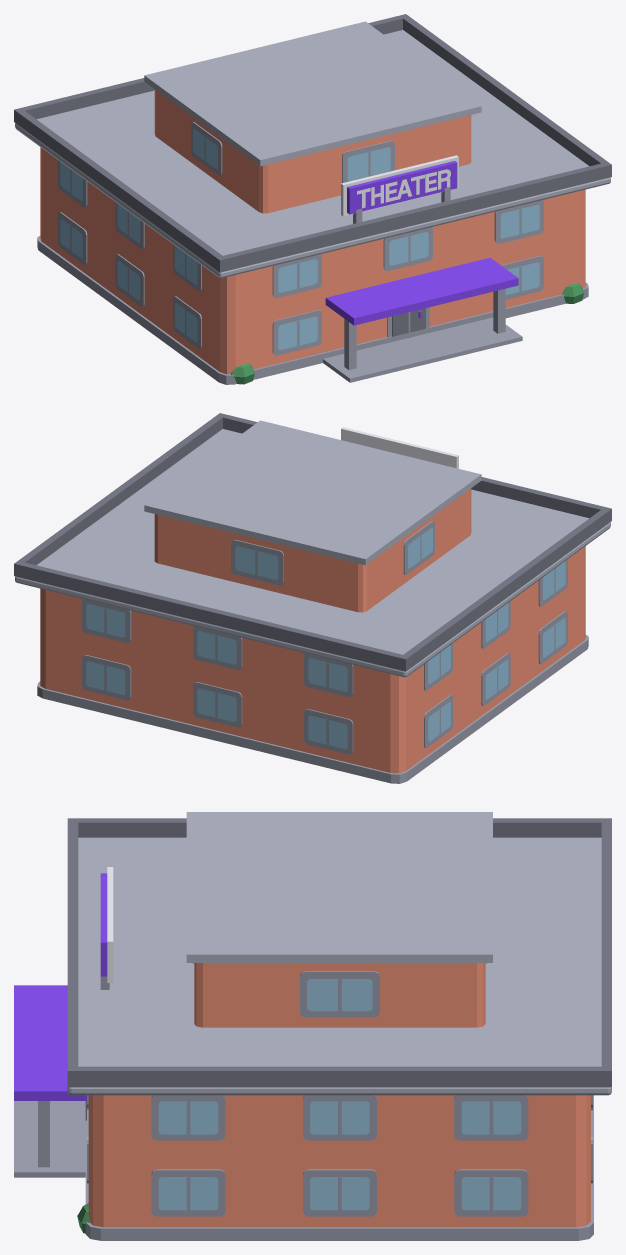
The model's file is theater-2x2.glb.
The picture shows the model from 3 angles, top to bottom: view 1: azimuth 30°, elevation 25°; view 2: azimuth 150°, elevation 25°; view 3: azimuth 270°, elevation 25°; orthographic projection. The views are drawn at different scales.
Visible parts, largest first — view 1: theater-2x2; view 2: theater-2x2; view 3: theater-2x2.
Part boxes in pixels (bbox=[...]): theater-2x2: bbox=[14, 14, 611, 384]; theater-2x2: bbox=[14, 413, 611, 783]; theater-2x2: bbox=[14, 812, 611, 1240].
Size of the model in its own units: 2 by 0.881 by 2.
1 material, 1 textured.
